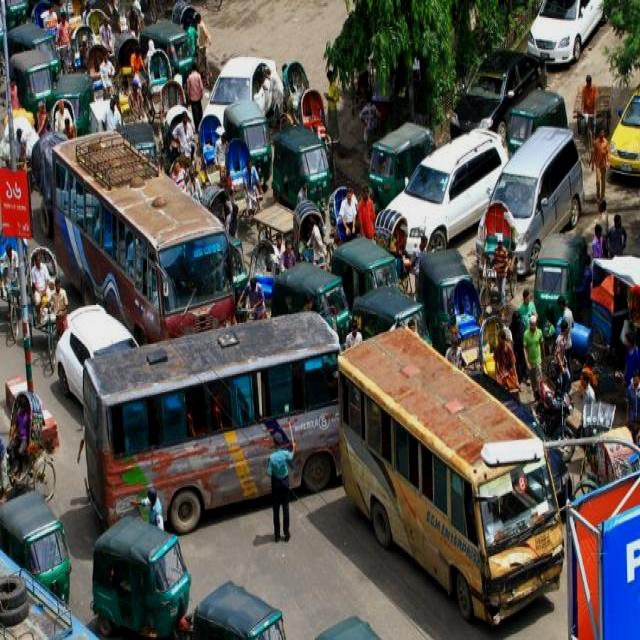BUS: (338, 313, 560, 632), (63, 305, 345, 539), (33, 131, 243, 345)
